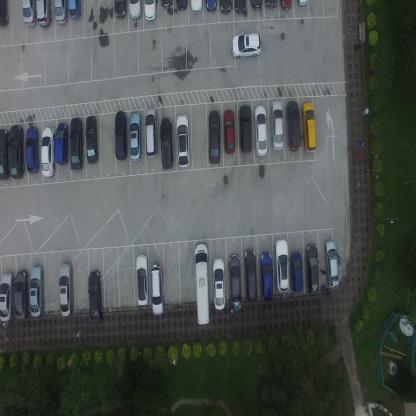car: (194, 242, 210, 324), (87, 270, 104, 324), (8, 123, 24, 179), (274, 238, 290, 292), (69, 115, 84, 172), (59, 261, 74, 317), (286, 100, 302, 152), (28, 266, 44, 318), (323, 238, 339, 289), (175, 114, 190, 168), (230, 32, 261, 58), (150, 263, 165, 316), (0, 270, 15, 323), (207, 109, 221, 165), (253, 104, 268, 156), (304, 243, 319, 295), (40, 126, 55, 178), (159, 115, 173, 170), (244, 248, 258, 302), (302, 101, 316, 154), (144, 106, 158, 159), (228, 253, 242, 306), (25, 125, 40, 174), (128, 110, 142, 162), (114, 109, 128, 161), (259, 252, 273, 303), (135, 255, 149, 306), (14, 269, 28, 320), (85, 115, 99, 165), (212, 258, 225, 311), (239, 103, 252, 154), (54, 122, 69, 166), (271, 98, 283, 152), (289, 250, 304, 293), (223, 107, 235, 154), (0, 128, 9, 182), (21, 0, 37, 29), (36, 0, 52, 27), (54, 0, 68, 26), (113, 0, 127, 21), (143, 0, 157, 21), (0, 0, 9, 30), (69, 0, 82, 20), (128, 0, 141, 20), (189, 0, 204, 14), (218, 0, 232, 15), (233, 0, 246, 14), (159, 0, 173, 11), (264, 0, 279, 10), (205, 0, 217, 12), (175, 0, 188, 11), (279, 0, 294, 9), (249, 0, 263, 9), (296, 0, 310, 7)
